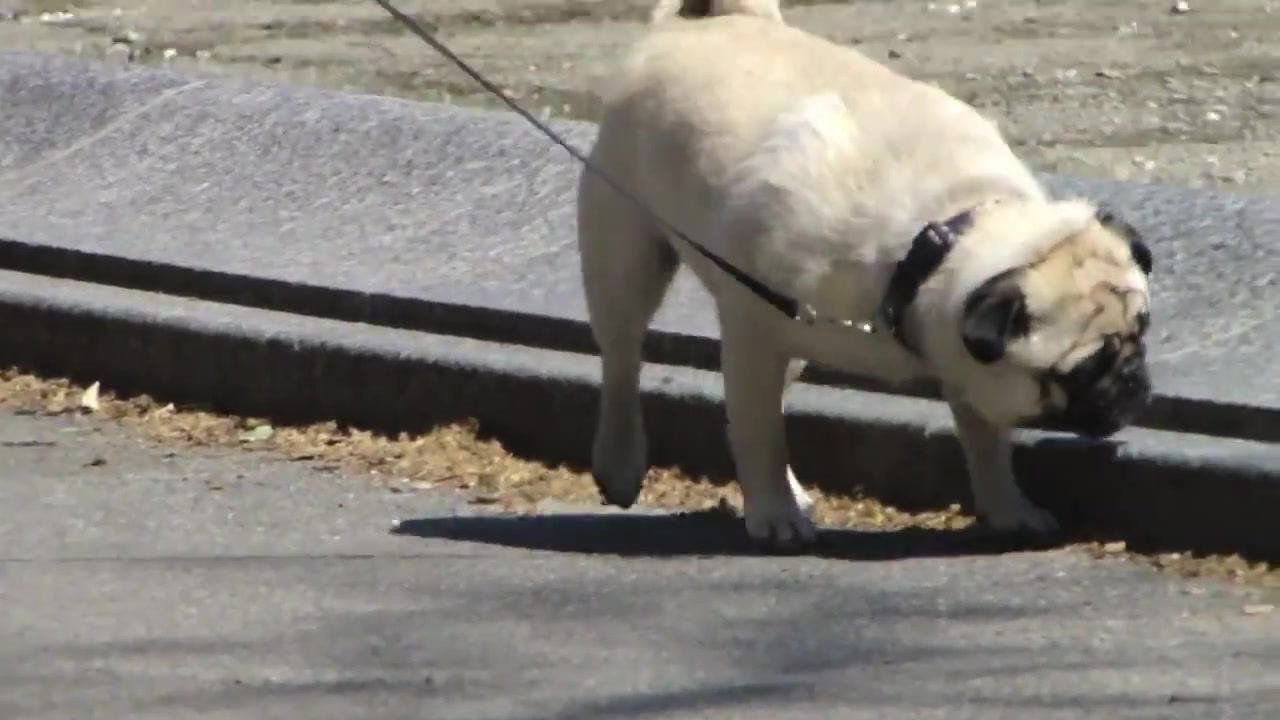dog: (576, 2, 1156, 550)
